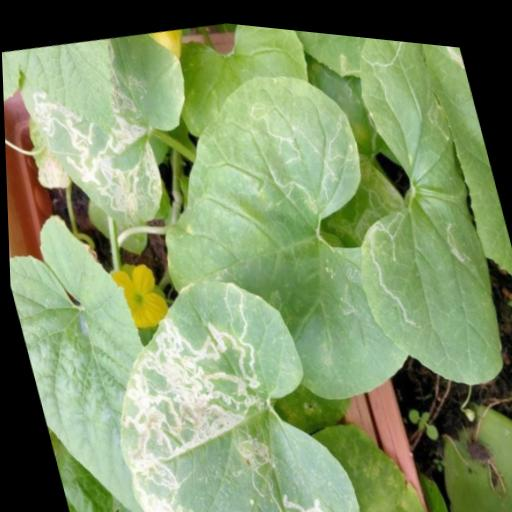Leaf_Miner: (73, 239, 362, 512)
